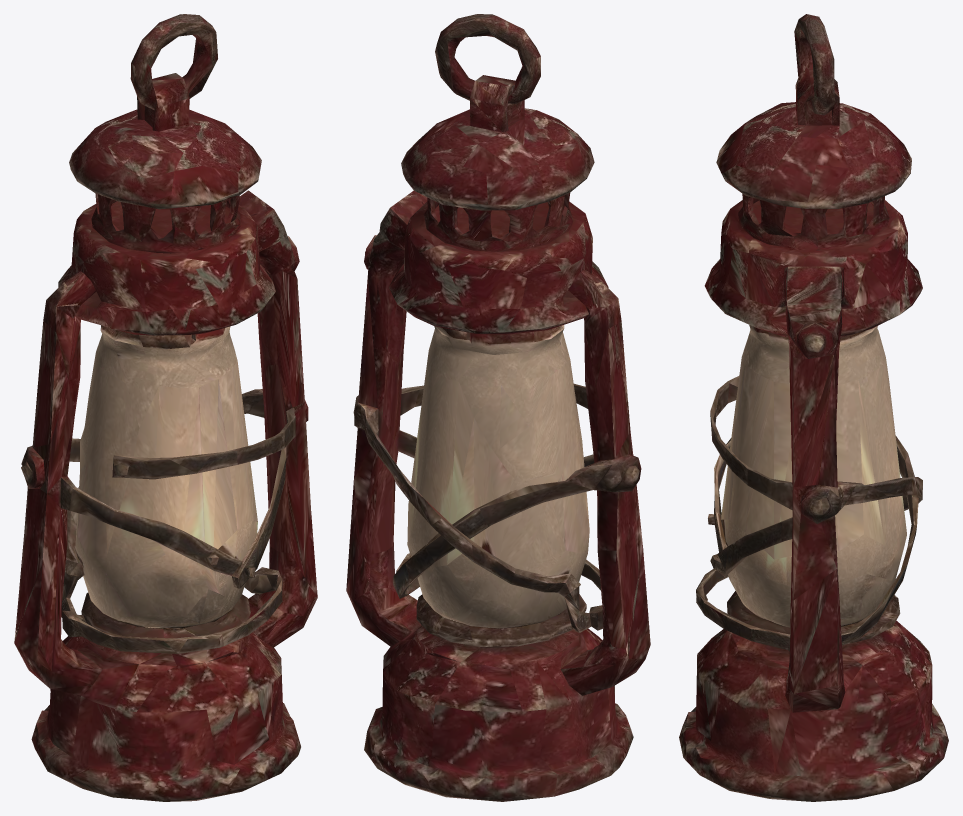
Rendered from barn_lantern.glb.
The picture shows the model from 3 angles, left to right: view 1: azimuth 30°, elevation 25°; view 2: azimuth 150°, elevation 25°; view 3: azimuth 270°, elevation 25°; orthographic projection.
Visible parts, largest first — view 1: barn_lantern; view 2: barn_lantern; view 3: barn_lantern.
Boxes of the visible parts, bbox=[...] form: barn_lantern: bbox=[14, 14, 317, 801]; barn_lantern: bbox=[346, 14, 650, 801]; barn_lantern: bbox=[679, 14, 948, 801].
Size of the model in its own units: 0.1774 by 0.44 by 0.1459.
Materials: 1 (1 with a texture image).
